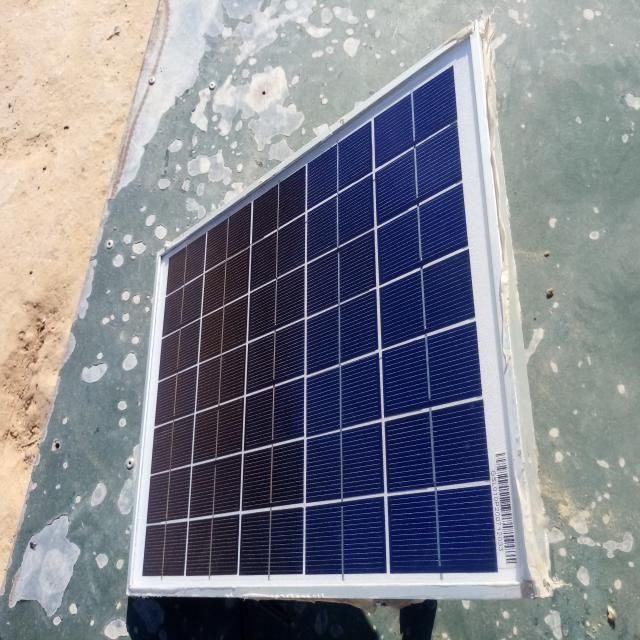no faulty: (128, 35, 528, 605)
